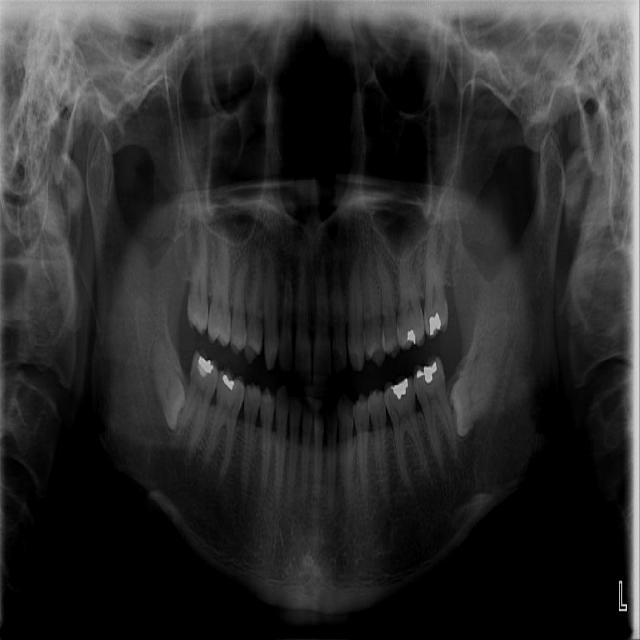Filling: (415, 360, 437, 385), (428, 312, 445, 338), (197, 355, 215, 378), (391, 377, 408, 400), (222, 374, 238, 390), (406, 329, 417, 345)
impacted tooth: (149, 321, 185, 430), (452, 346, 497, 433)
